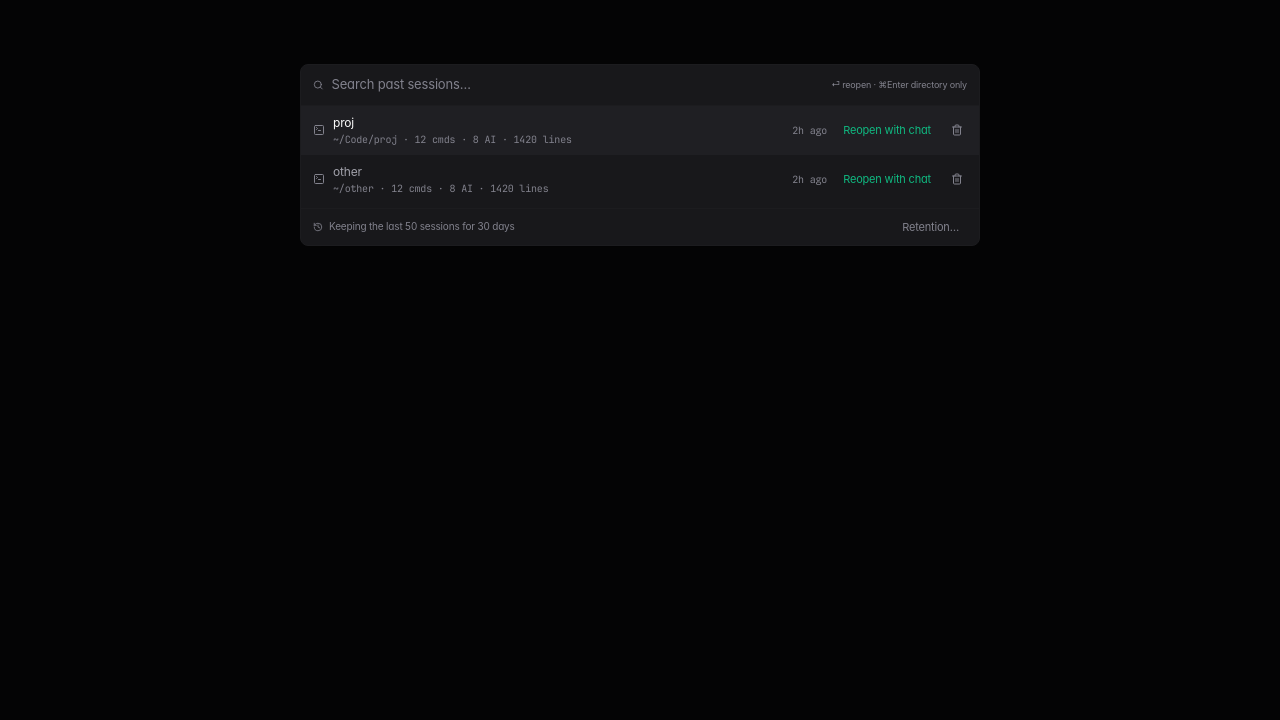
Test: SessionBrowser › requires a second click to remove, and only then deletes
The image size is (1280, 720).
expect the text "proj" is shown: met, box [333,114,354,130]
Click the 1st button titled "Remove": (957, 130) [947,120,967,140]
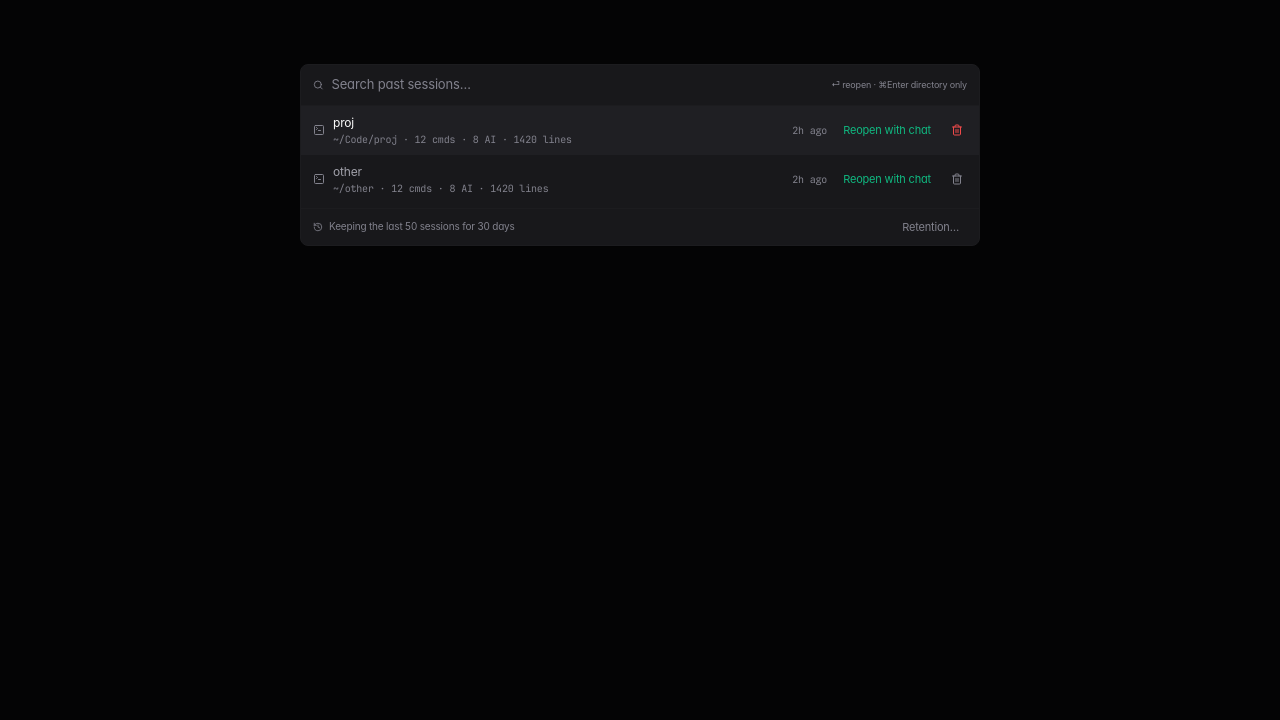
The row now advertises that a second click is destructive.
Click the button titled "Click again to remove": (957, 130) [947,120,967,140]
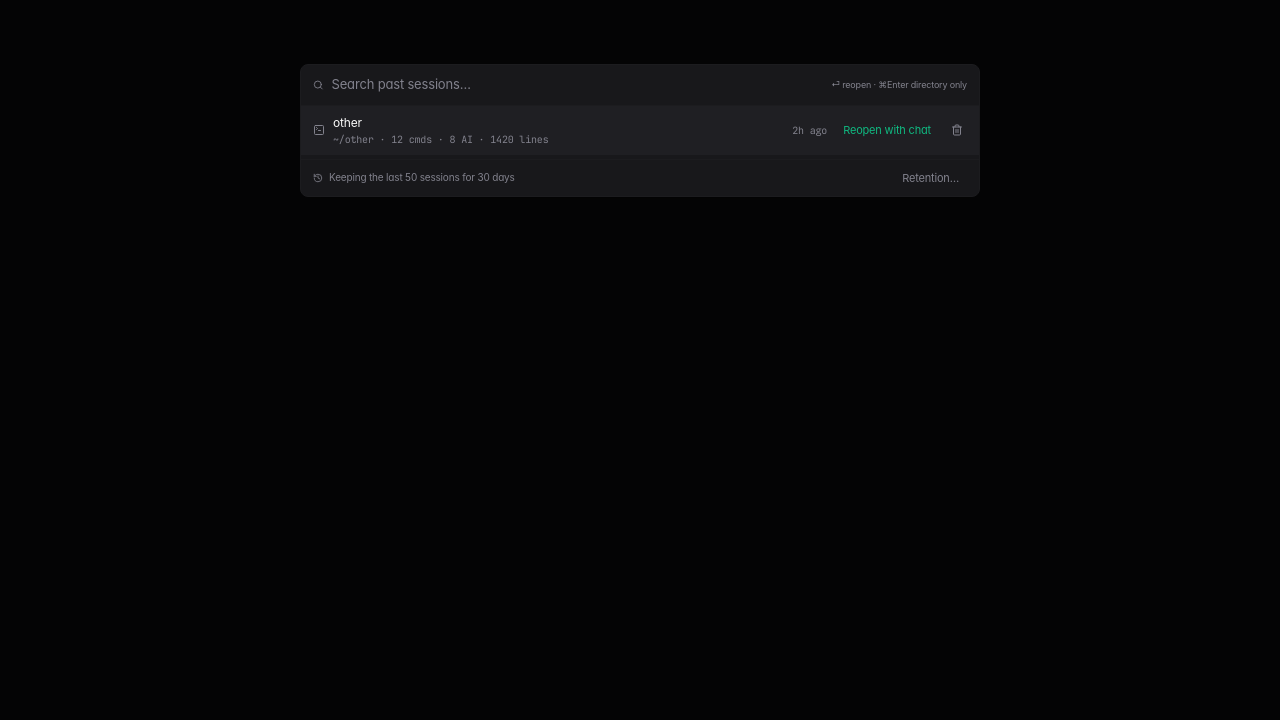
expect the button "proj" is gone: met
